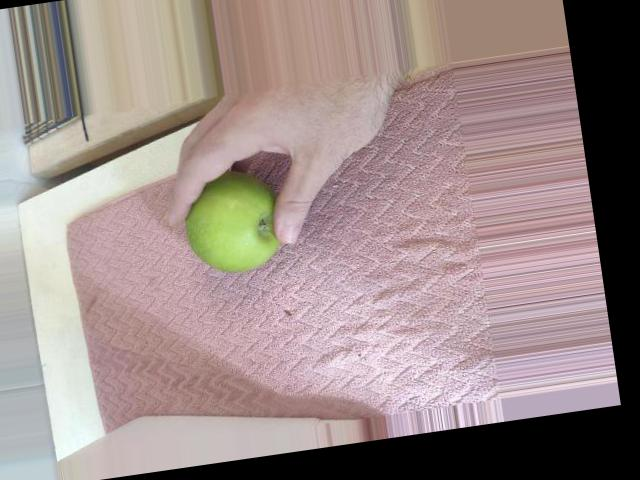apple: (166, 168, 295, 295)
